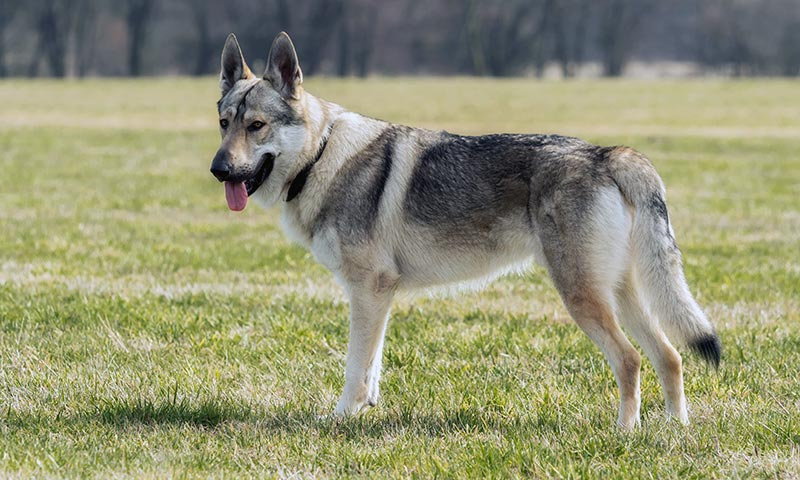Lobo: (191, 22, 733, 440)
